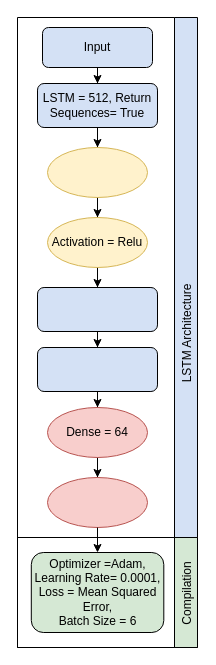
Image size: 216x665. Some labels were removed from this diagram. Here are the shapes that lost their labels. From the top down, the centre of each, then its label:
the point at 97,172: Batch Normalization
the point at 97,309: LSTM = 256, Return Sequences= True
the point at 97,369: LSTM = 128
the point at 97,502: Output
